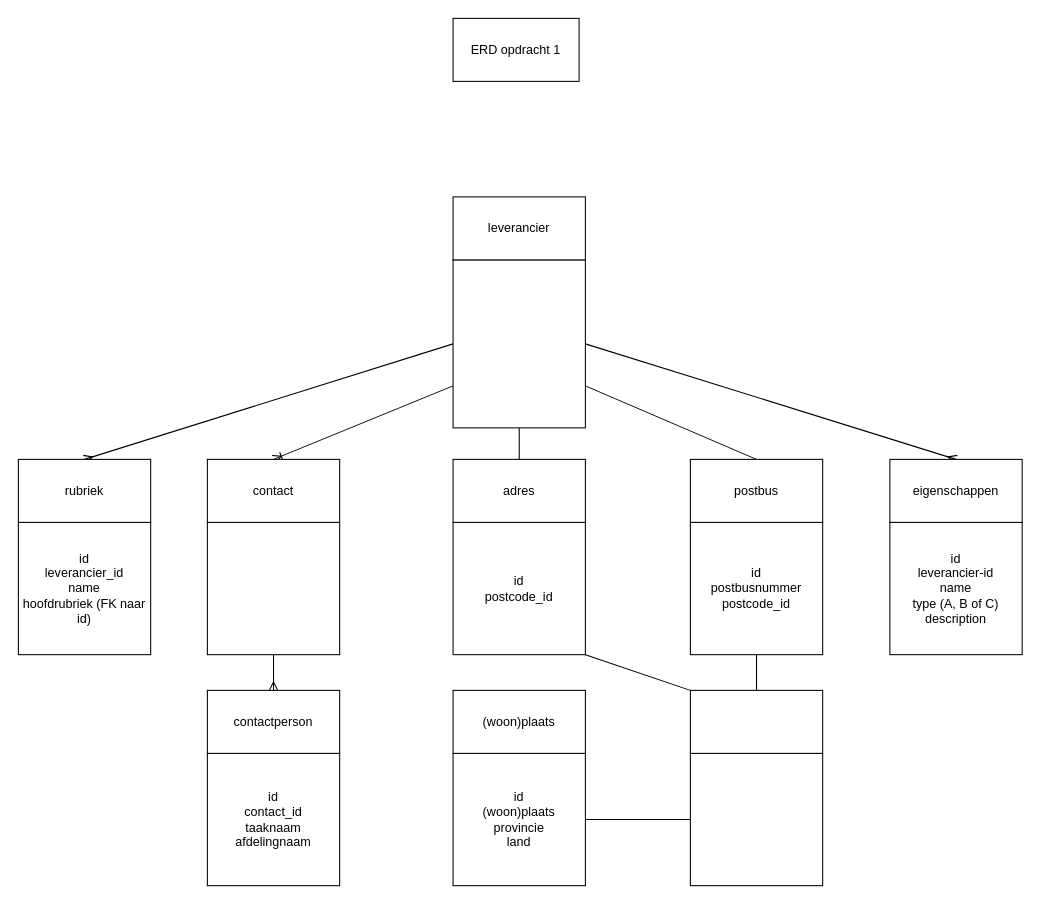
The diagram is 1041 pixels wide and 904 high, and some of its shapes have lost their labels. The shapes that lost their labels are listed below. From the top down, each one's centre as x and y in pixels, then its label:
At (x=518, y=343): "id name adres_id postbus_id email mobile number number".
At (x=273, y=588): "id leverancier_id name email telefoonnummer".
At (x=756, y=721): "postcode".
At (x=756, y=819): "id type (adress of postbus) geo-locatie straatnaam (woon)plaats_id".
